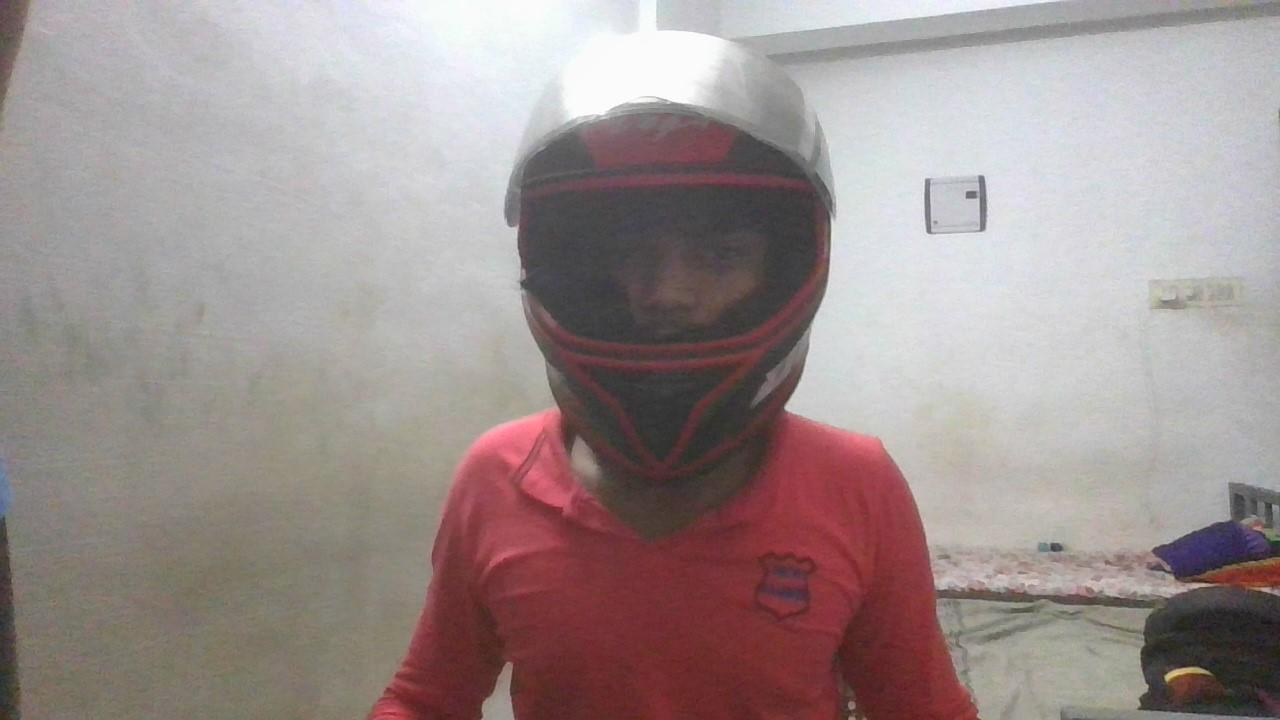helmet: (503, 29, 836, 488)
